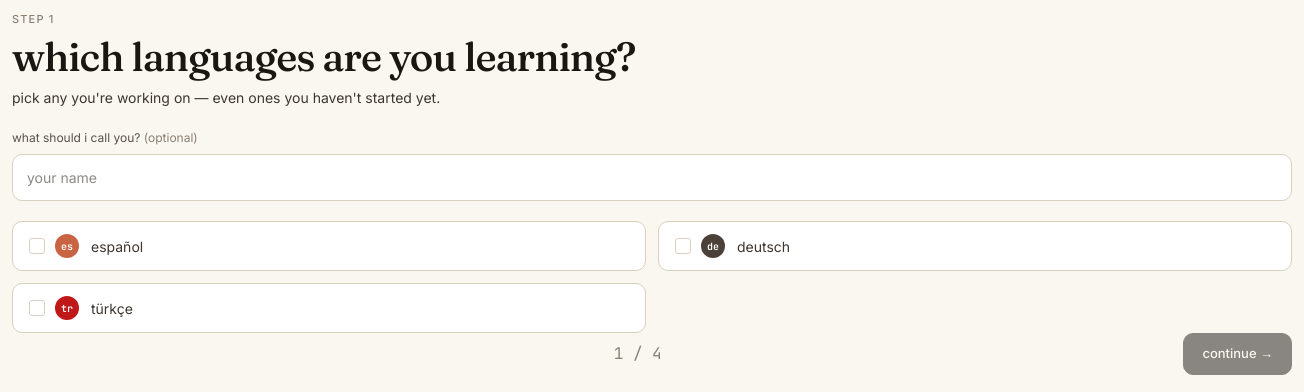
Scenario: StepLanguages › WizardFooter continue button is disabled with 0 languages, enabled with ≥1
Expected: the button with test id "wizard-footer-primary" is disabled, top-left (1183, 334), bottom-right (1292, 375)
Click the checkbox labelled "es español" at (117, 246), box top-left (12, 222), bottom-right (646, 272)
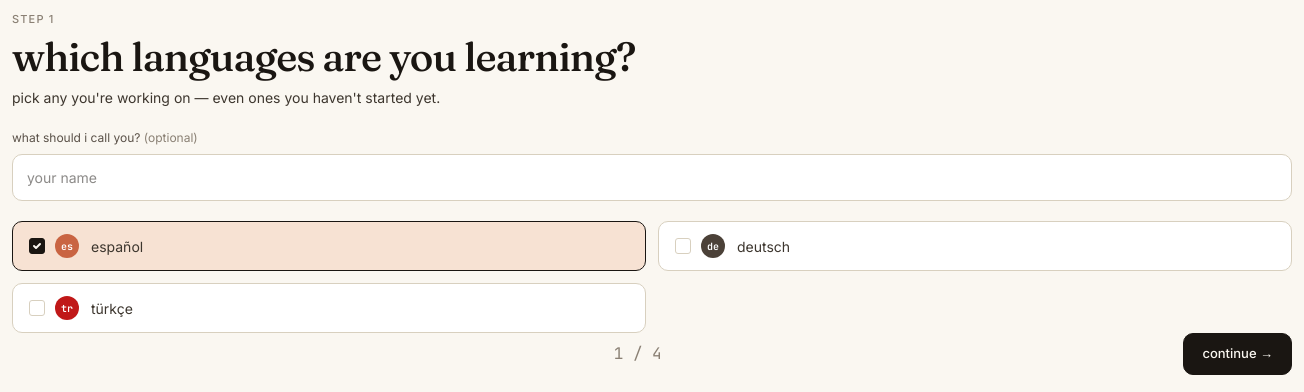
Expected: the button with test id "wizard-footer-primary" is enabled, top-left (1183, 334), bottom-right (1292, 375)
